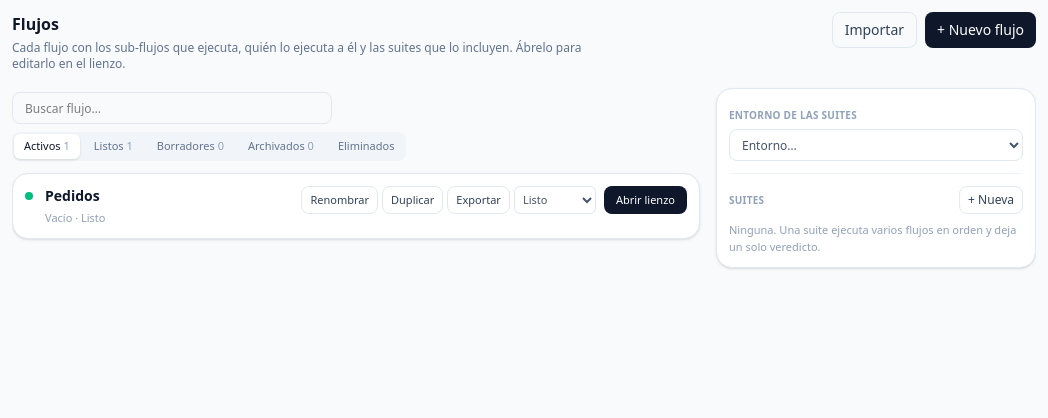
la papelera de los flujos › una papelera vacía lo dice, y las dos secciones también
Expected: the text "Pedidos" is shown, left=45, top=186, right=100, bottom=204
Click the button "Eliminados" at (366, 146), box left=328, top=134, right=404, bottom=158
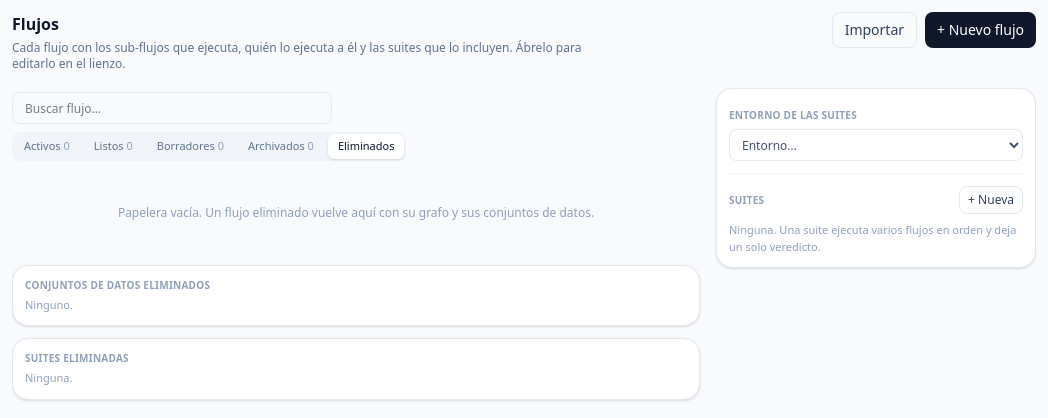
Expected: the text "Papelera vacía" is shown, left=118, top=204, right=594, bottom=220
Expected: the text "Ninguno." is shown once, left=25, top=296, right=73, bottom=312
Expected: the text "Ninguna." is shown, left=25, top=370, right=72, bottom=385
